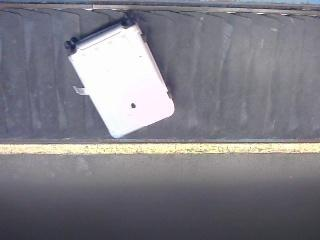Suitcase: (64, 15, 180, 136)
